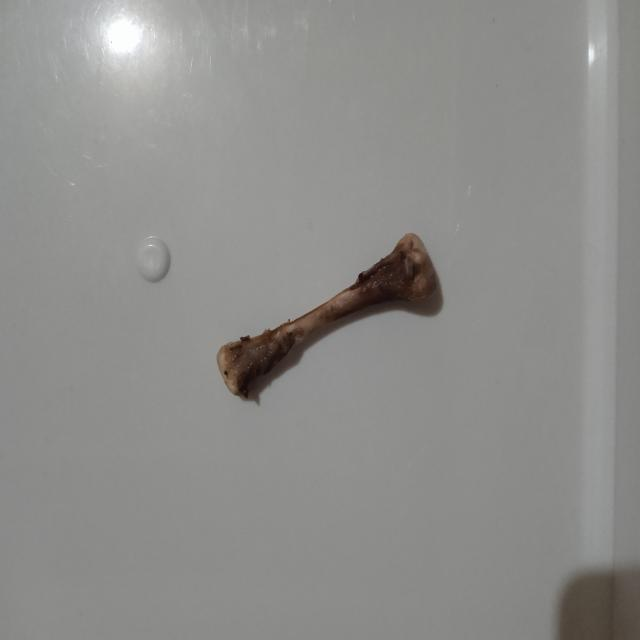bone: (213, 227, 446, 403)
